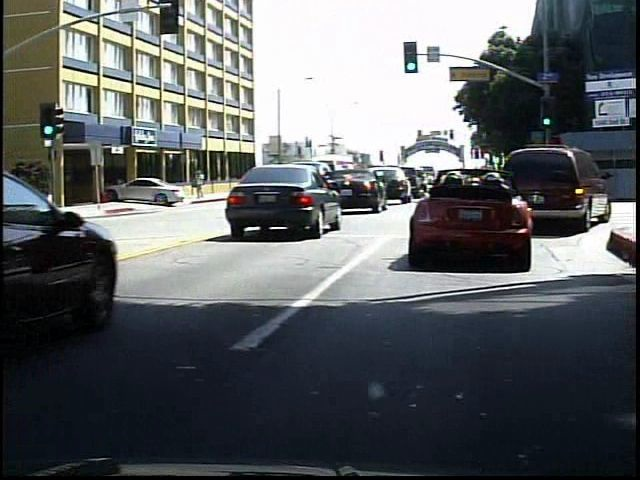person: (189, 169, 203, 202)
